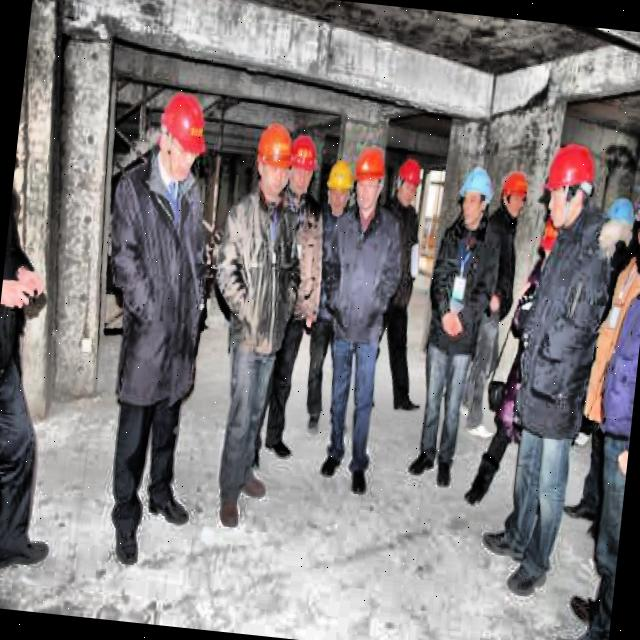helmet: (150, 92, 210, 186), (542, 142, 598, 231), (348, 141, 391, 215), (254, 120, 295, 196), (454, 163, 496, 230), (390, 152, 428, 214), (288, 136, 321, 200), (324, 156, 356, 220), (499, 165, 534, 222)
